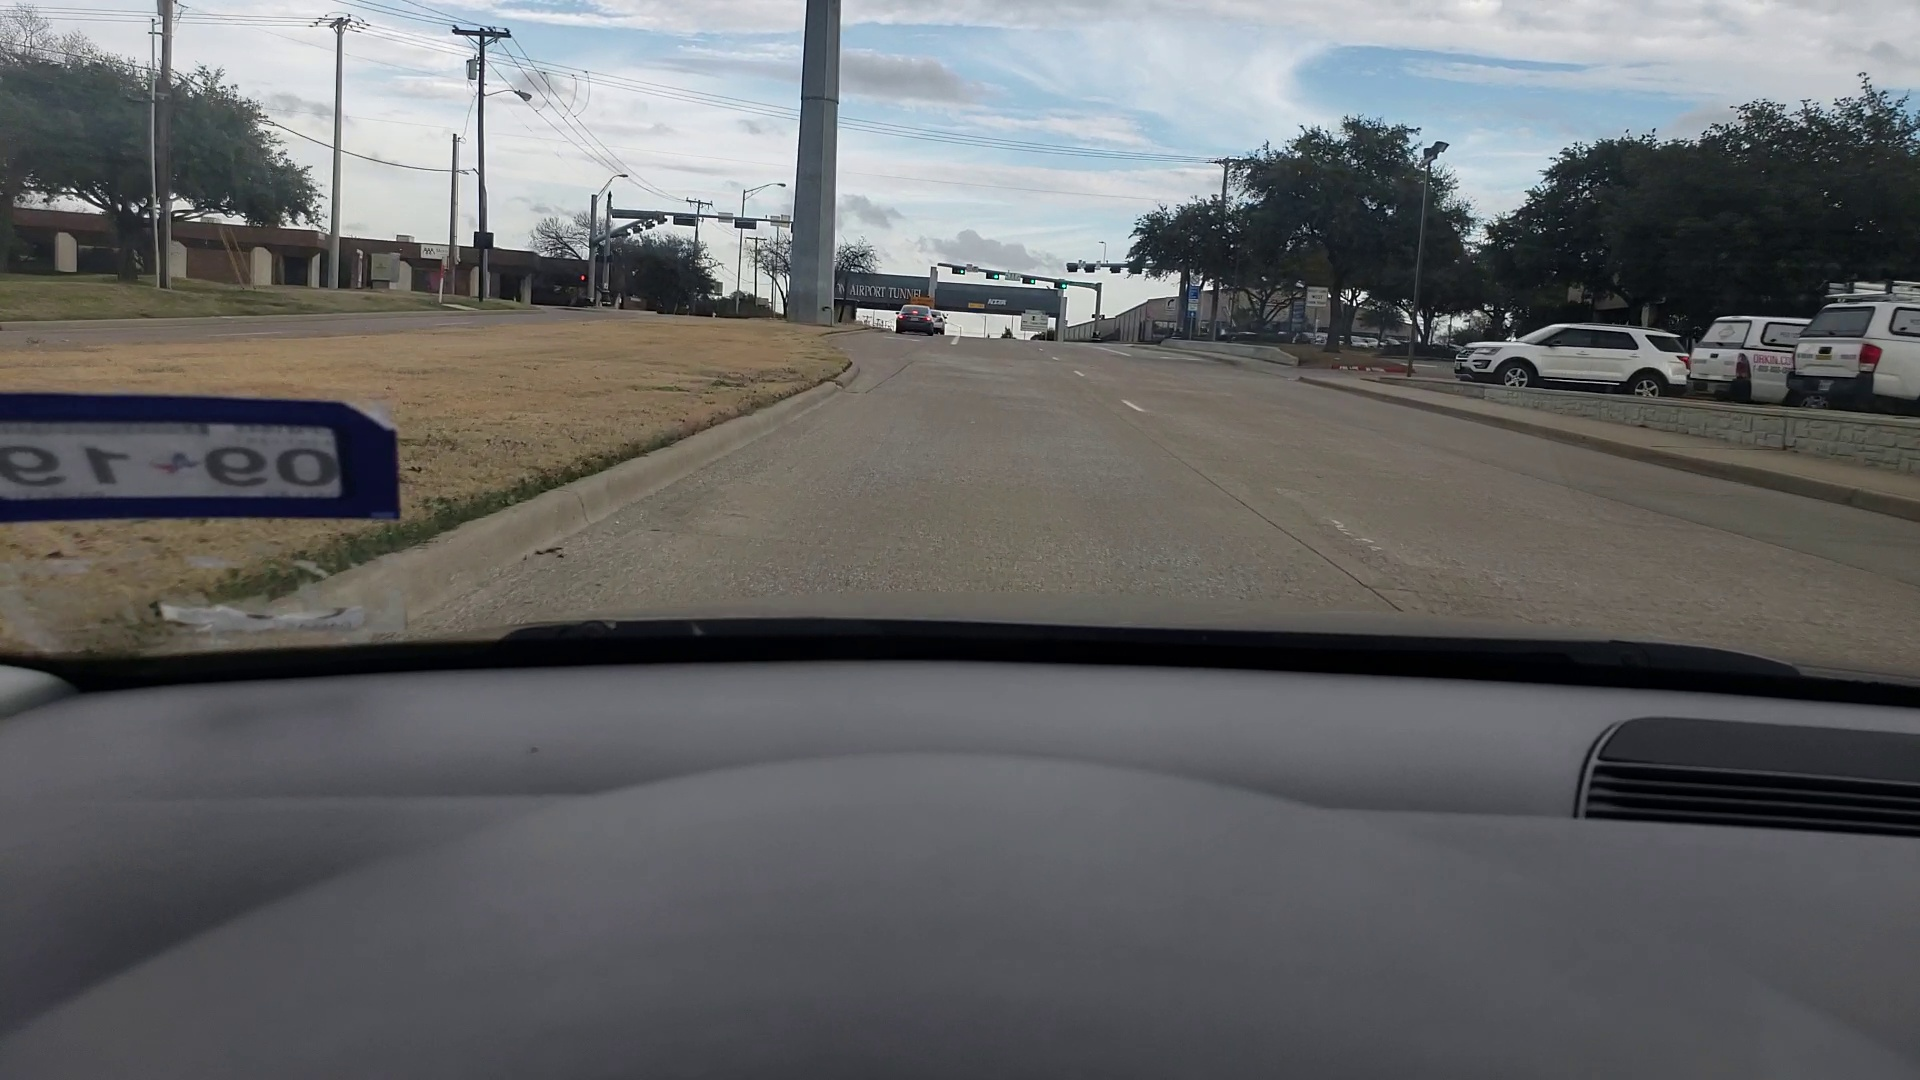car: (1447, 315, 1687, 396), (897, 302, 934, 335), (932, 307, 948, 334)
traffic light: (1054, 278, 1068, 291), (986, 266, 998, 280), (1022, 276, 1034, 285), (952, 266, 965, 273)
truck: (1807, 272, 1916, 419), (1689, 307, 1804, 406)
